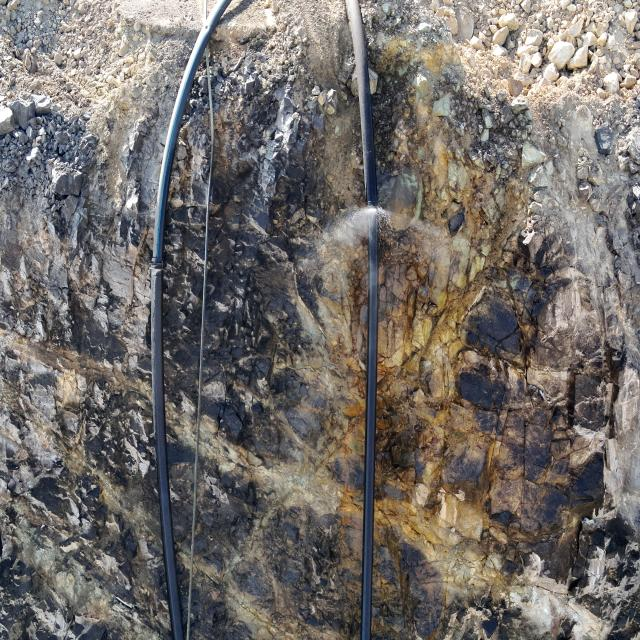leak: (305, 199, 481, 250)
